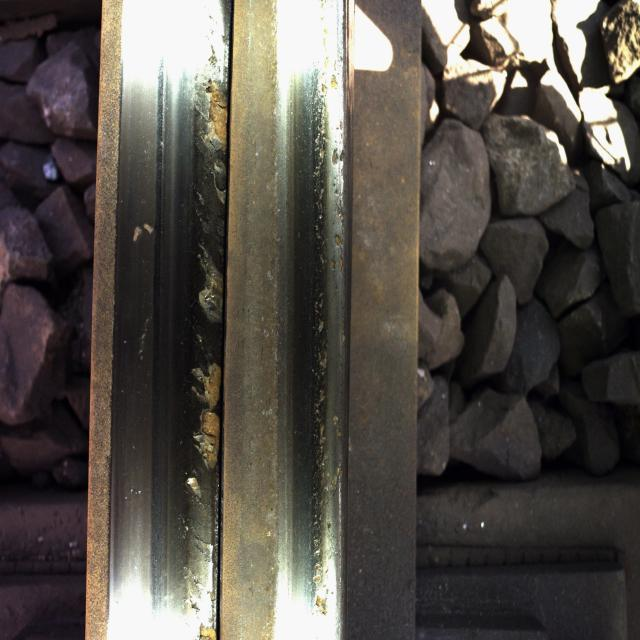crack: (281, 33, 344, 615), (174, 21, 222, 619)
